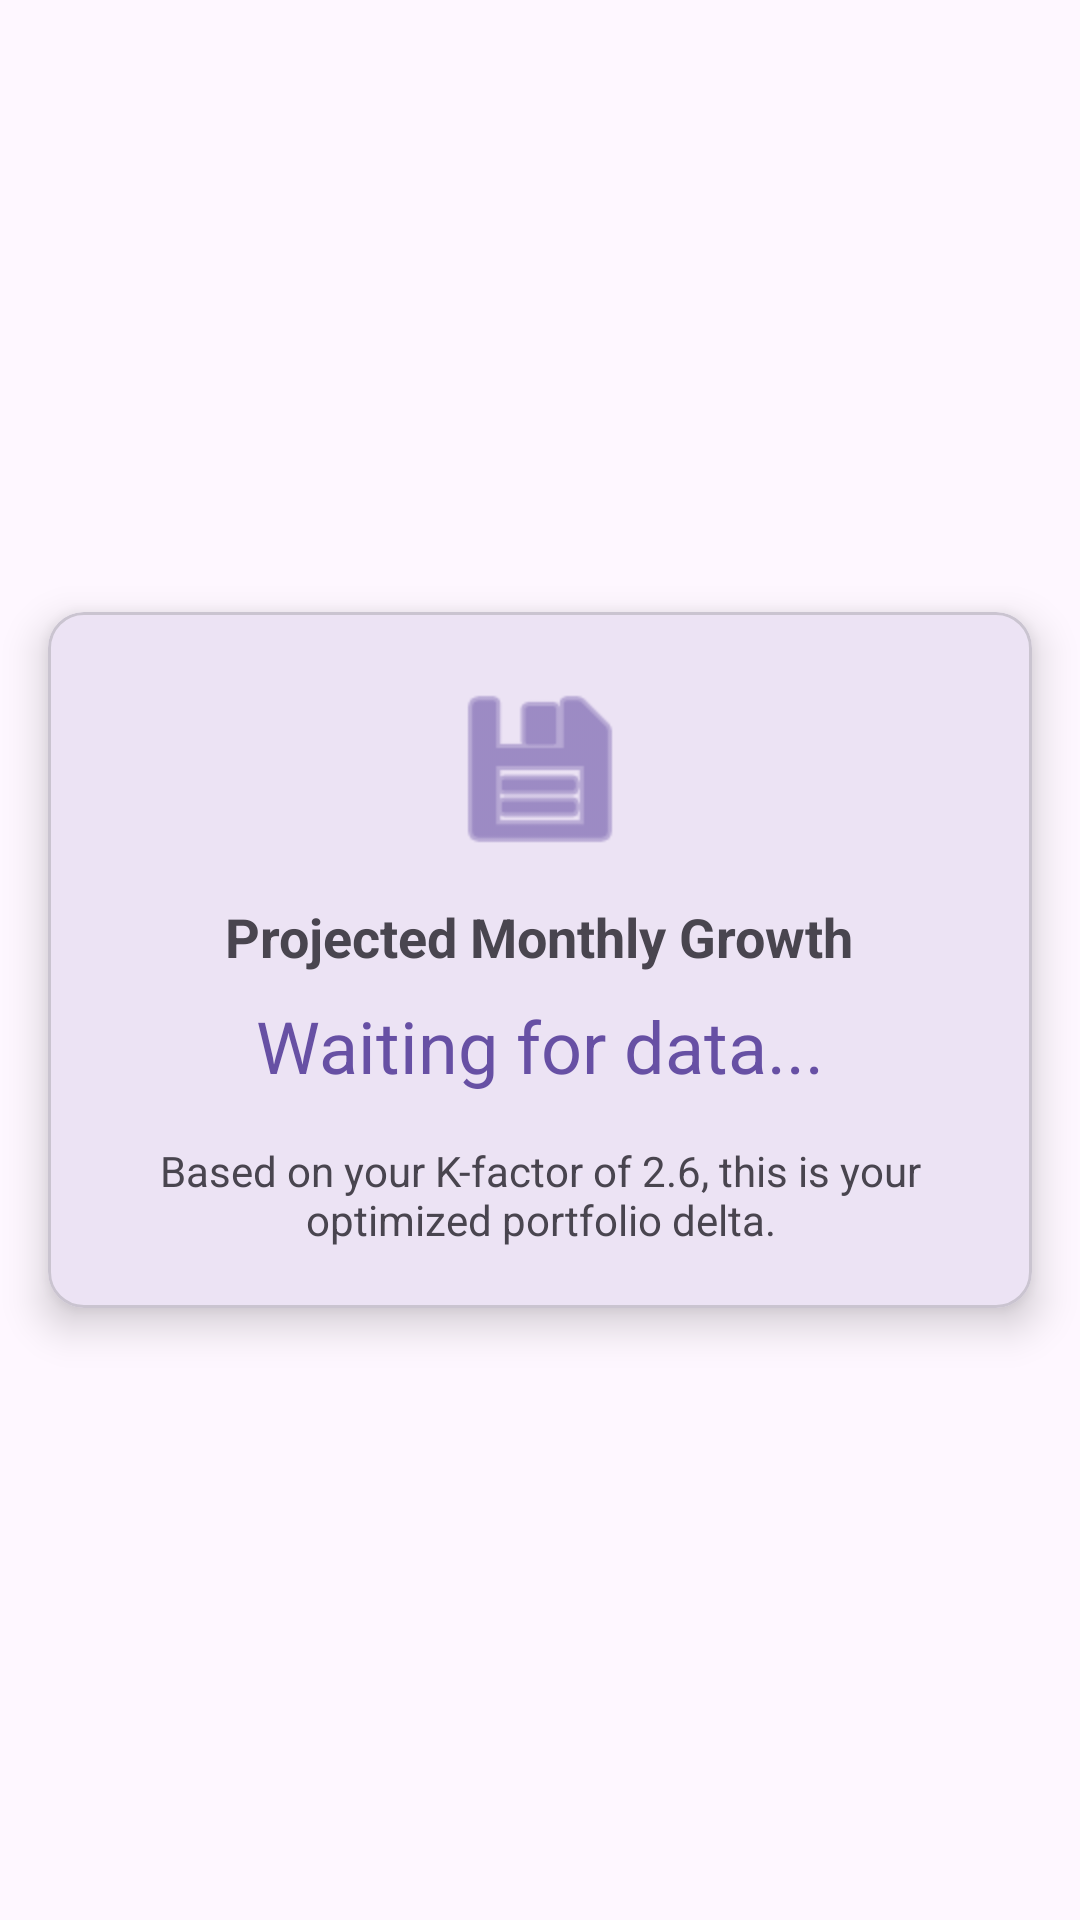

Screen size 1080*1920. Icon name, then its center in pixels as (x=x, y=y):
save: (x=540, y=769)
